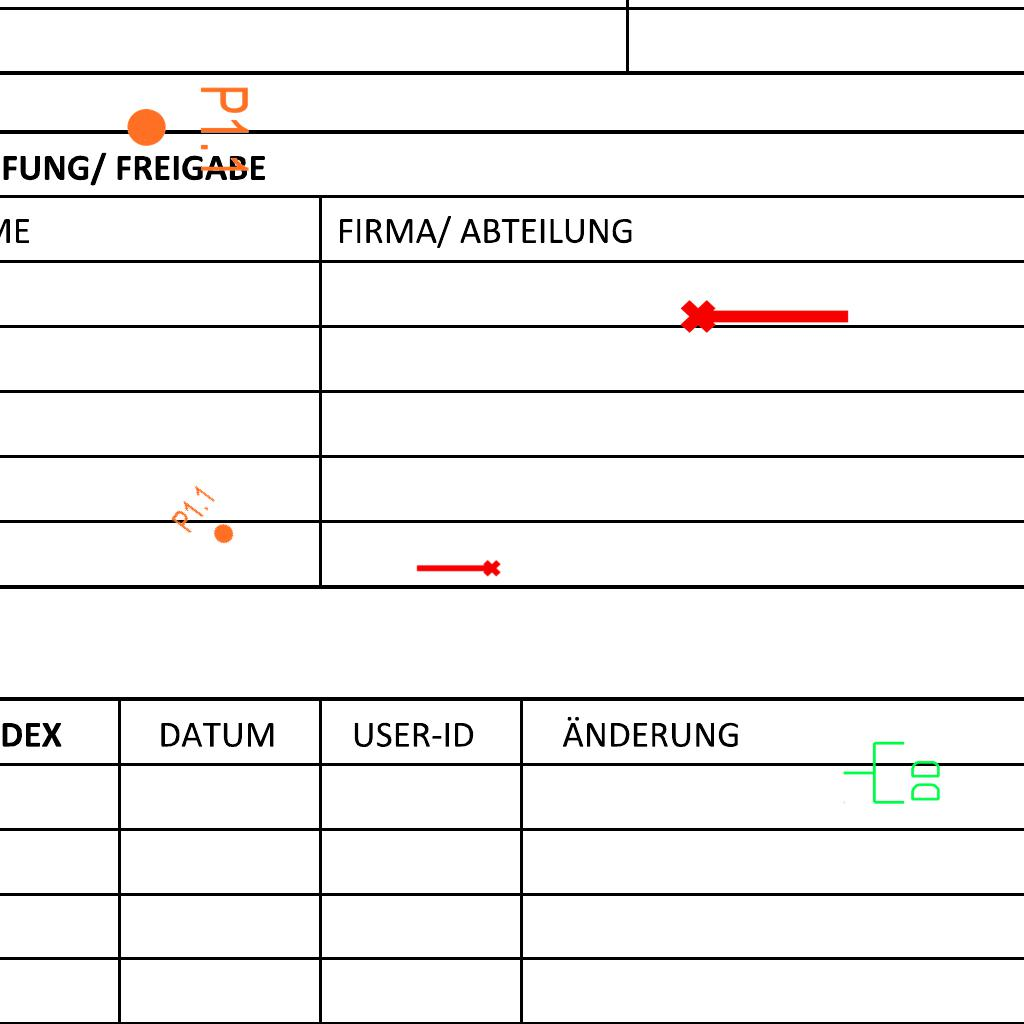ASR_Ansaugoeffnung: (678, 291, 854, 337), (414, 558, 502, 581)
Datenanschluss_zweifach: (841, 739, 944, 808)
Downlight_LED_Einbauleuchten_Flur: (124, 84, 252, 177), (168, 482, 248, 558)
